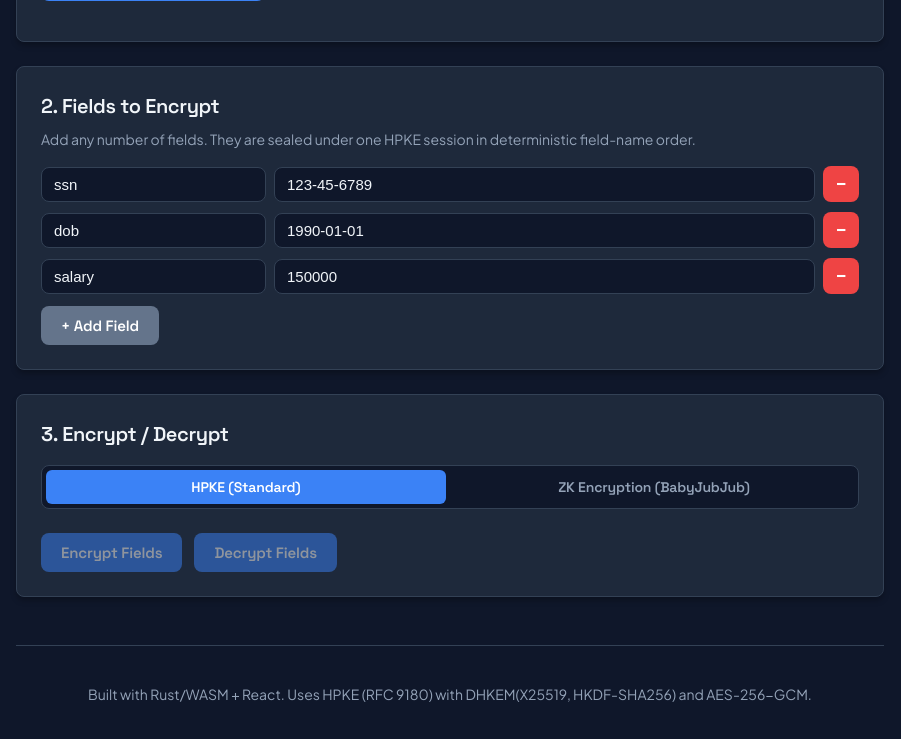
Test case: React KEM-DEM Demo Application › supports ZK BabyJubJub with custom domain separation settings
(page scrolled)
// Switch algorithm to ZK
Click the button "ZK Encryption (BabyJubJub)" at (654, 487), box [454,470,854,504]
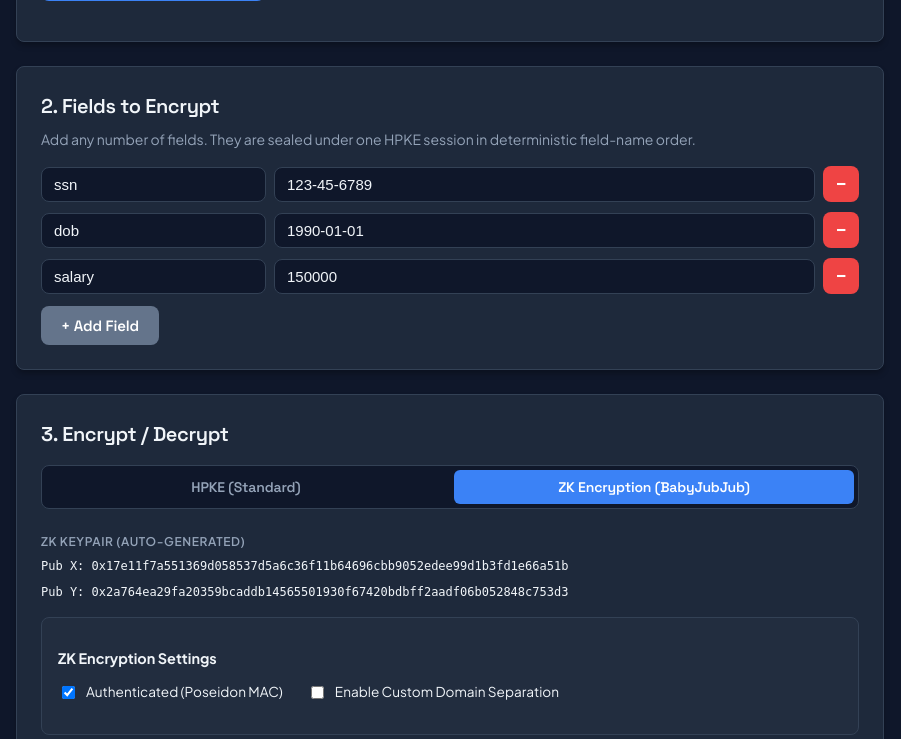
// Click on "Enable Custom Domain Separation" checkbox
Click the checkbox labelled "Enable Custom Domain Separation" at (317, 692), box [311,686,324,699]
(page scrolled)
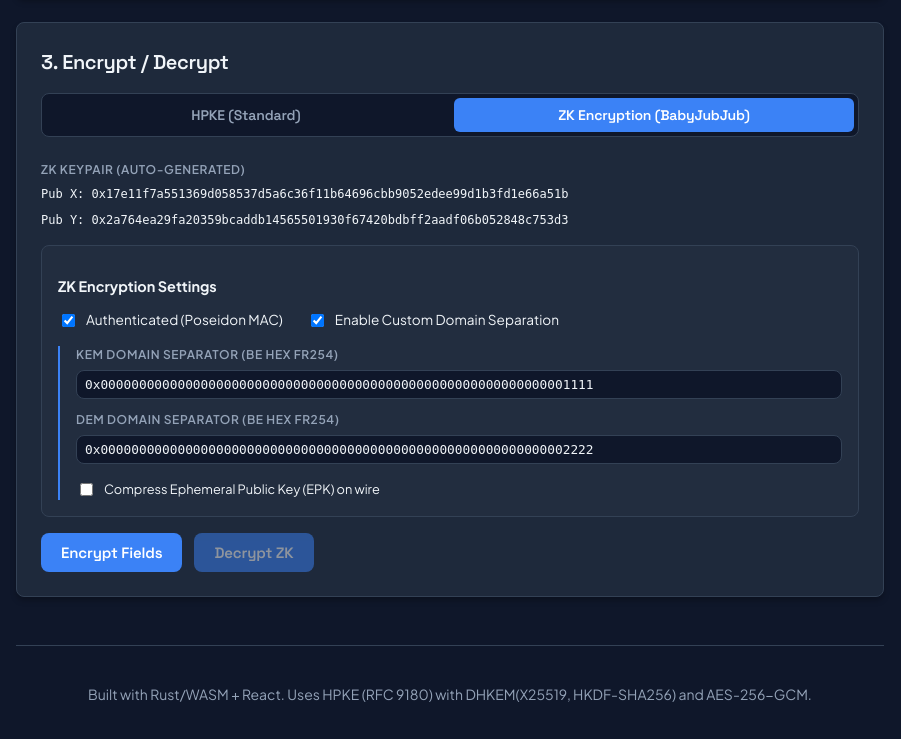
Expected: the text "KEM Domain Separator (BE hex Fr254)" is shown, [76,347,339,362]
Expected: the text "DEM Domain Separator (BE hex Fr254)" is shown, [76,412,340,427]
// Click encrypt
Click the button "Encrypt Fields" at (112, 552), box [41,533,182,572]
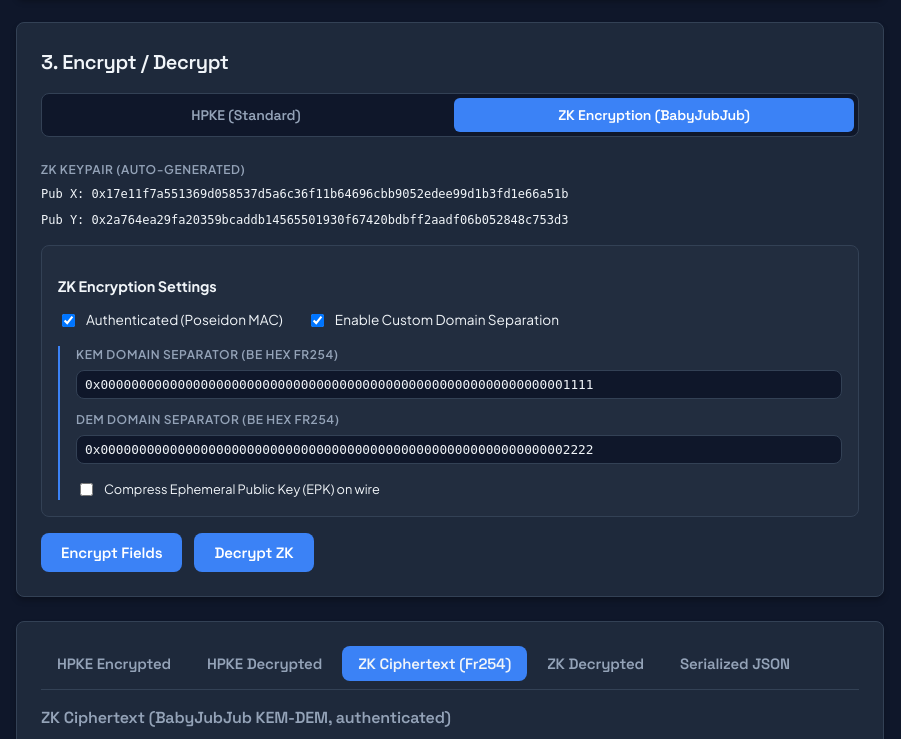
// Click decrypt
Click the button "Decrypt ZK" at (254, 552), box [194,533,314,572]
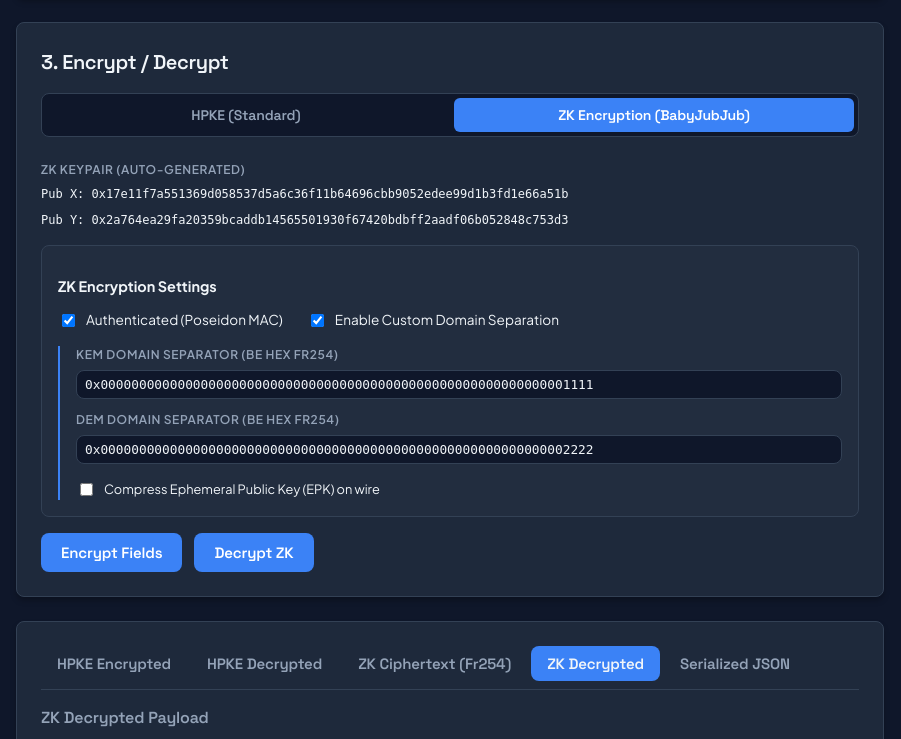
Expected: the heading "ZK Decrypted Payload" is shown, [41,707,209,728]
